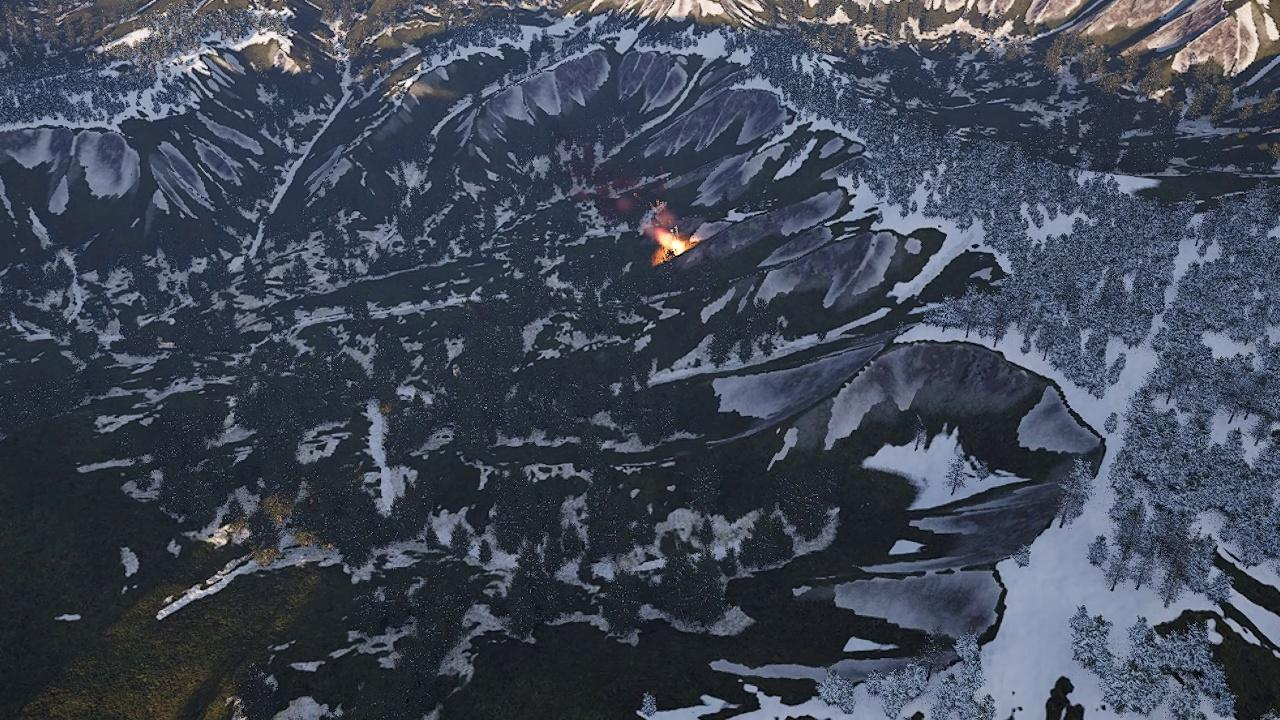fire: (654, 230, 693, 263)
smoke: (578, 170, 672, 237)
